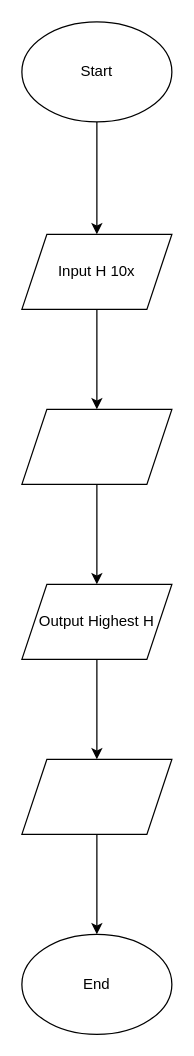
Some shapes in this 194 by 1056 pixel diagram are drawn without their labels. Each missing label, with the centre of its shape:
Input Age 10x: point 96,446
Output Oldest Age: point 96,796
